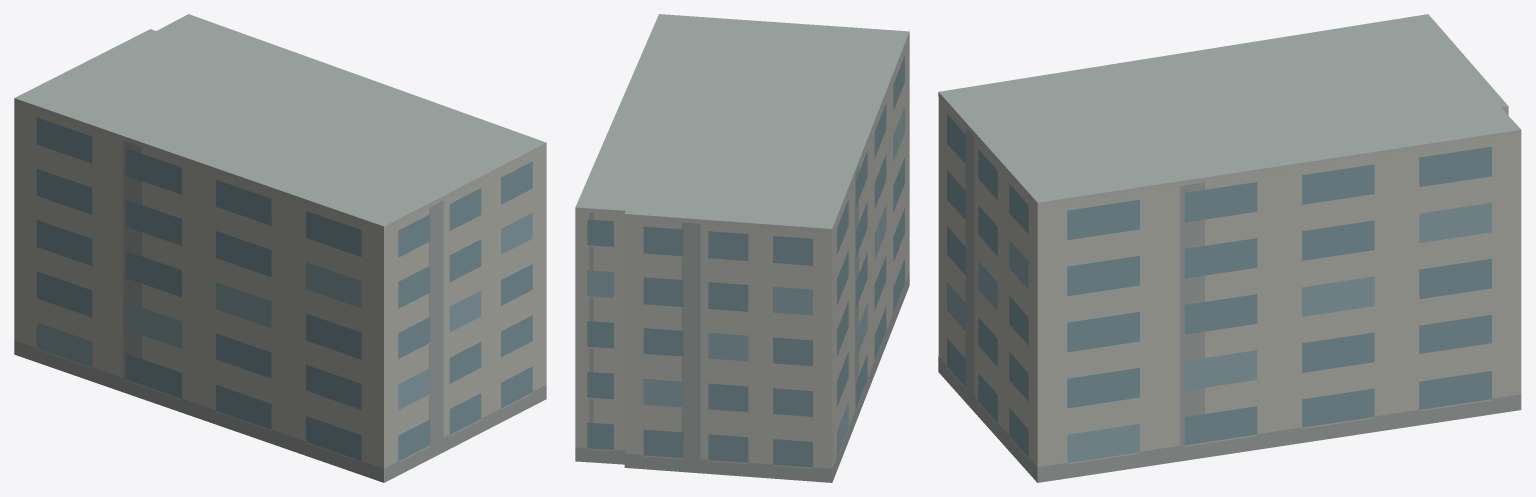
Rendered from survey-upis-32956795.glb.
The picture shows the model from 3 angles, left to right: view 1: azimuth 30°, elevation 25°; view 2: azimuth 150°, elevation 25°; view 3: azimuth 270°, elevation 25°; orthographic projection. The views are drawn at different scales.
Parts seen in each view (by area): view 1: survey-upis-32956795.tmp; view 2: survey-upis-32956795.tmp; view 3: survey-upis-32956795.tmp.
Boxes of the visible parts, box(x1,y1,x2,y2) form: survey-upis-32956795.tmp: box(14, 14, 546, 482); survey-upis-32956795.tmp: box(575, 14, 909, 482); survey-upis-32956795.tmp: box(938, 14, 1521, 482).
Size of the model in its own units: 20.22 by 14 by 26.4.
